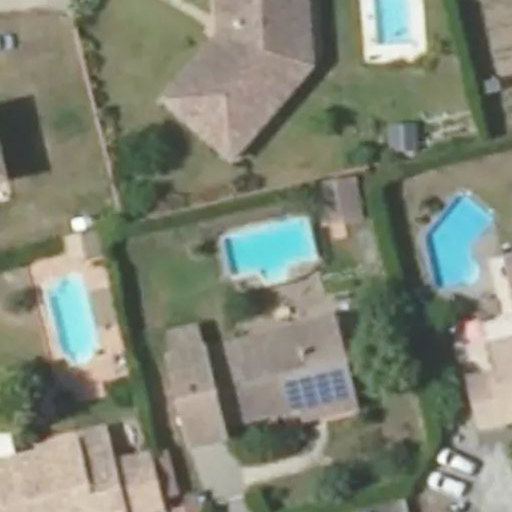pool: (209, 228, 304, 262)
